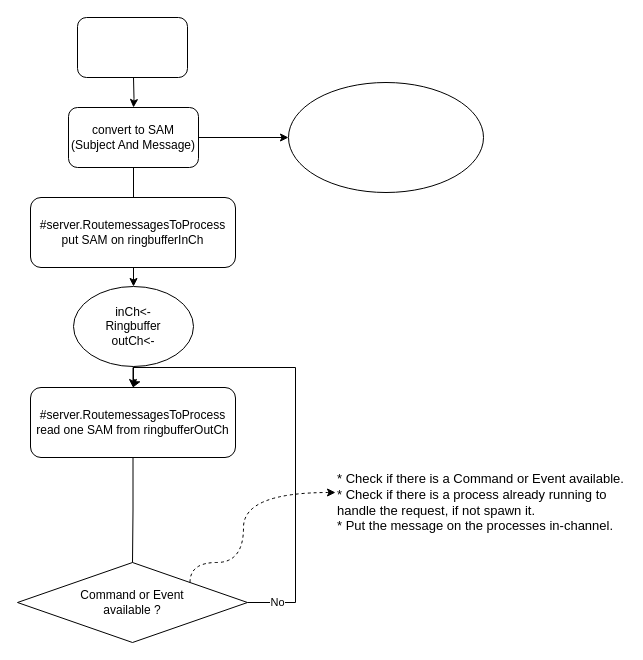
The diagram is 643 pixels wide and 660 high, and some of its shapes have lost their labels. The shapes that lost their labels are listed below. From the top down, each one's centre as x and y in pixels, then its label:
(x=132, y=47): Read Message from socket
(x=386, y=137): Create the subject from the message fields
